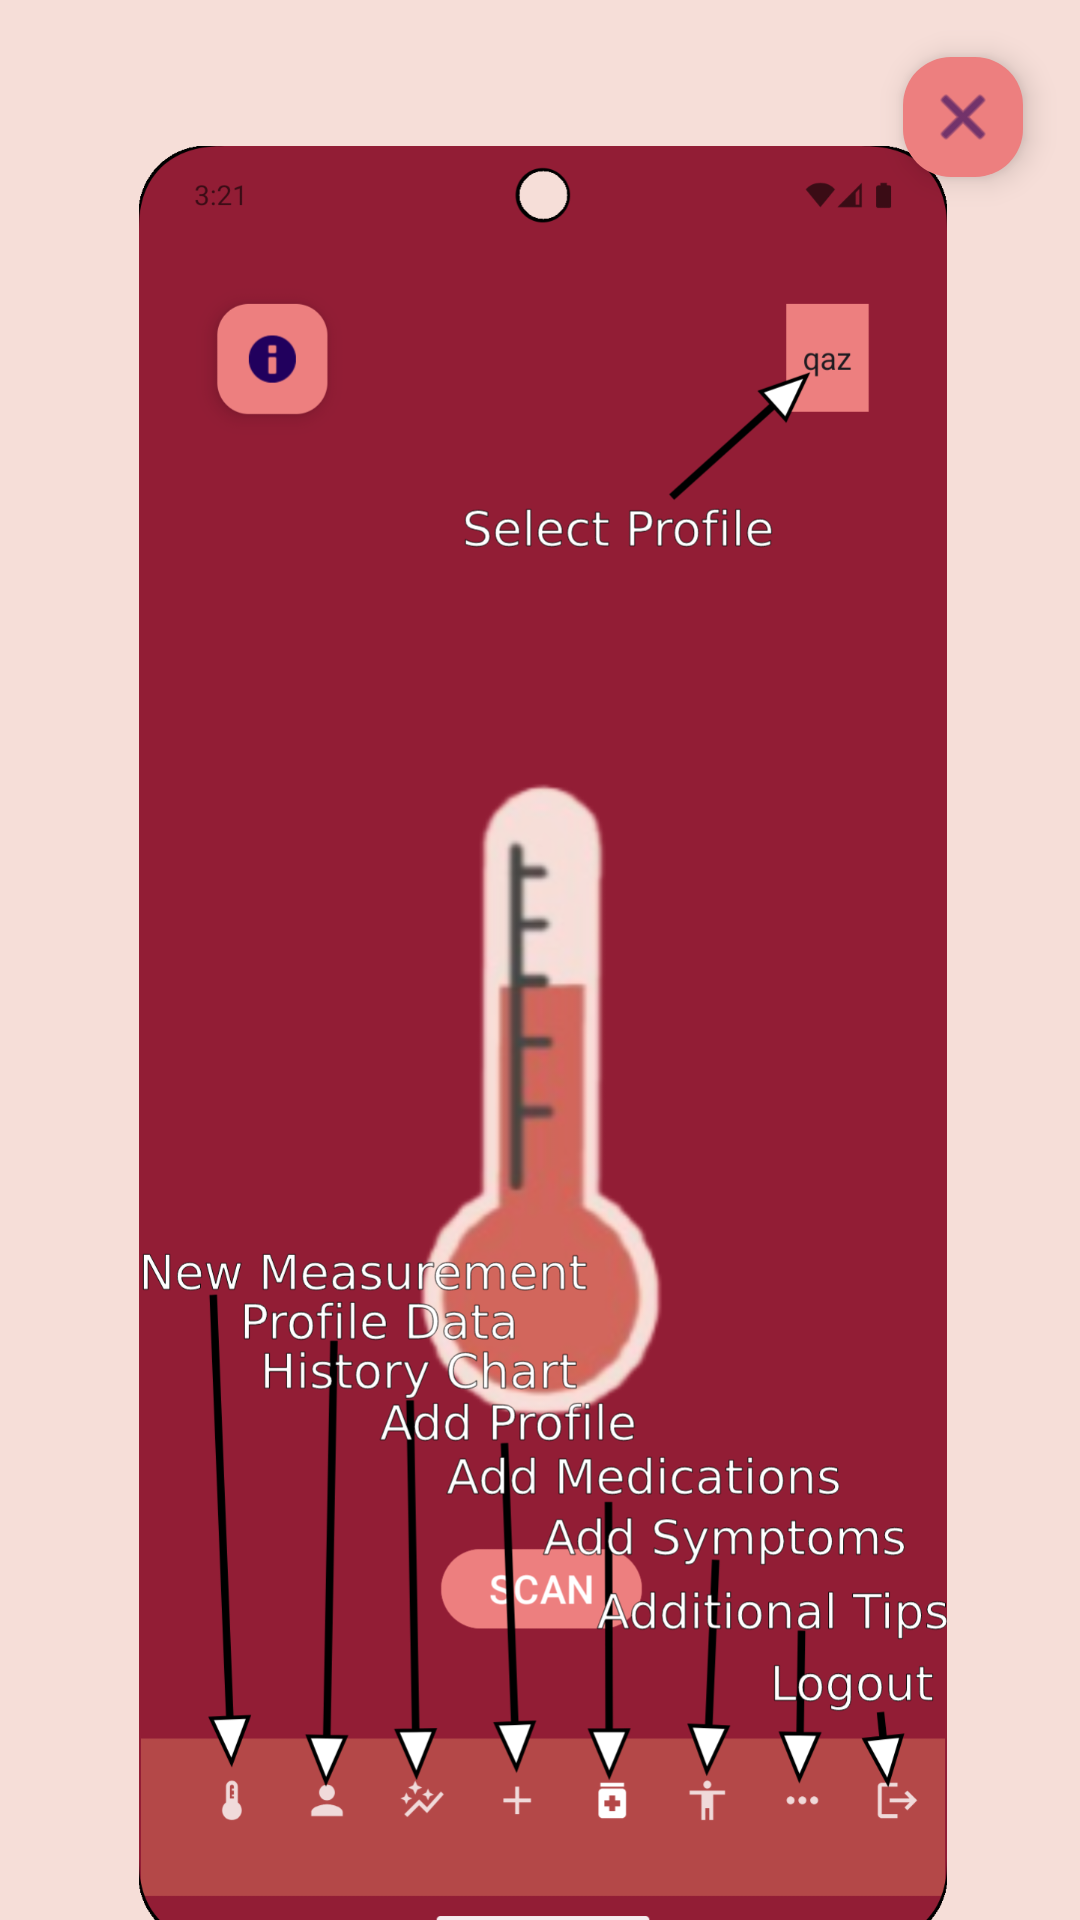

Icon bounding boxes for this 1080×1920 phone screenshot, format (x1, y1, x2, y2):
close clear cancel: (891, 57, 1024, 189)
